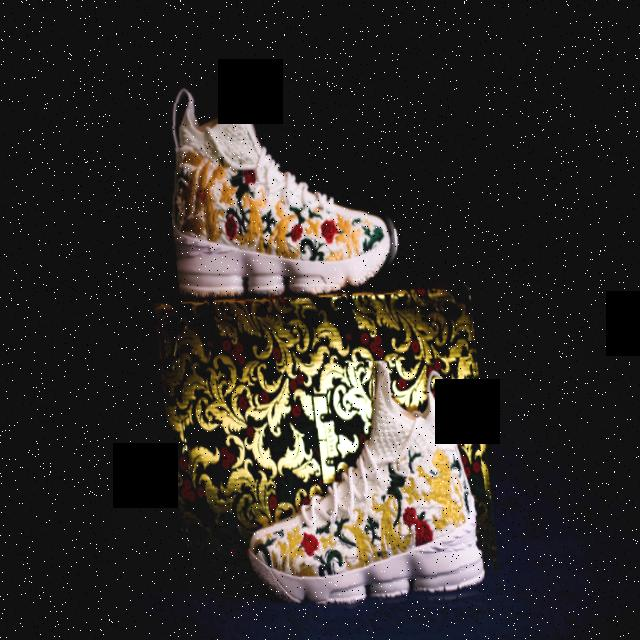shoe: (222, 339, 497, 628), (156, 43, 408, 311)
